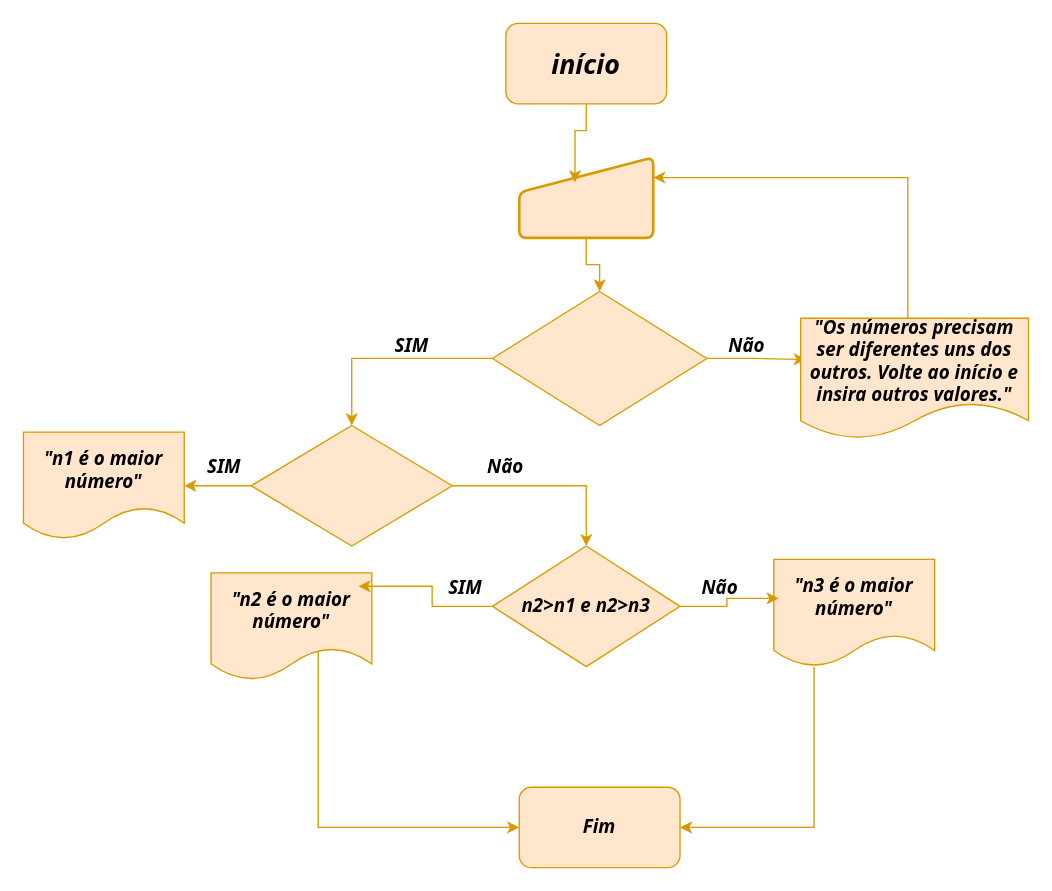
The diagram is 1052 pixels wide and 891 high, and some of its shapes have lost their labels. The centre of each missing label's shape, as x and y in pixels:
"n1 != n2, n2!=n3 e n3!=n1" belongs at [599,357].
"n1,n2 e n3" belongs at [585,197].
"n1>n2 e n1>n3" belongs at [351,485].
